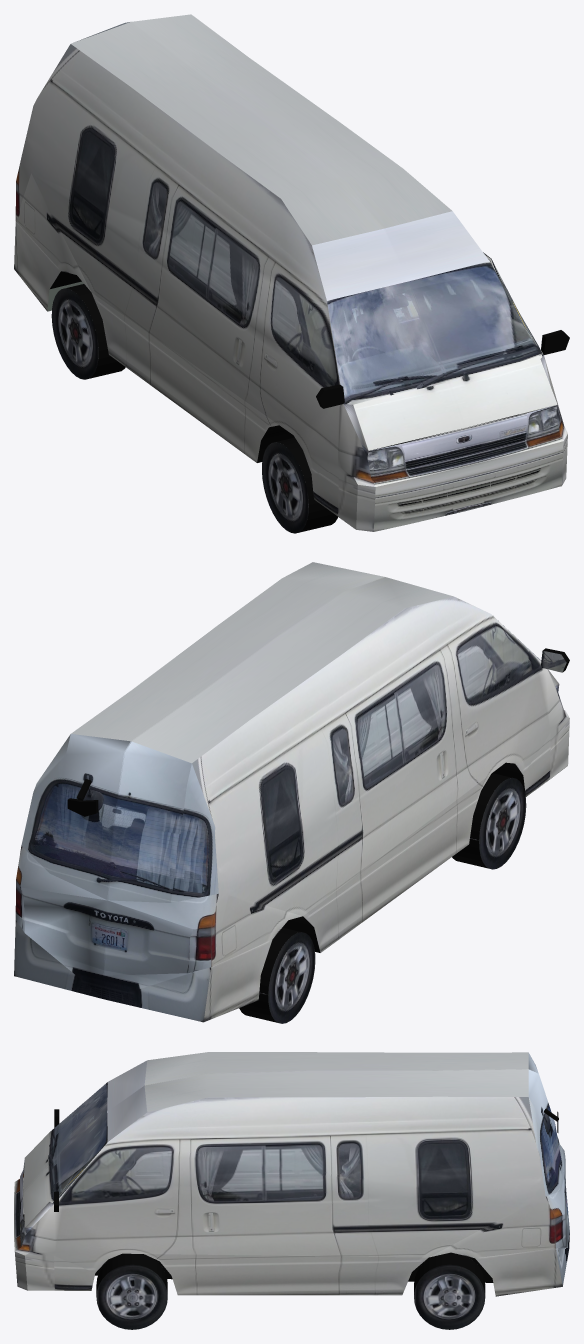
File: trotro.glb
3 renders of one model, top to bottom at view 1: azimuth 30°, elevation 25°; view 2: azimuth 150°, elevation 25°; view 3: azimuth 270°, elevation 25°, orthographic. The views are drawn at different scales.
Visible parts, largest first — view 1: Plane.002; view 2: Plane.002; view 3: Plane.002.
Boxes of the visible parts, x1=… form: Plane.002: x1=14, y1=14, x2=569, y2=533; Plane.002: x1=14, y1=562, x2=569, y2=1023; Plane.002: x1=14, y1=1052, x2=569, y2=1329.
Bounding box in the file's own units: 1.86 × 2.06 × 4.7.
1 material, 1 textured.
